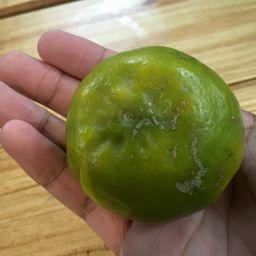Unripe: (64, 49, 243, 220)
